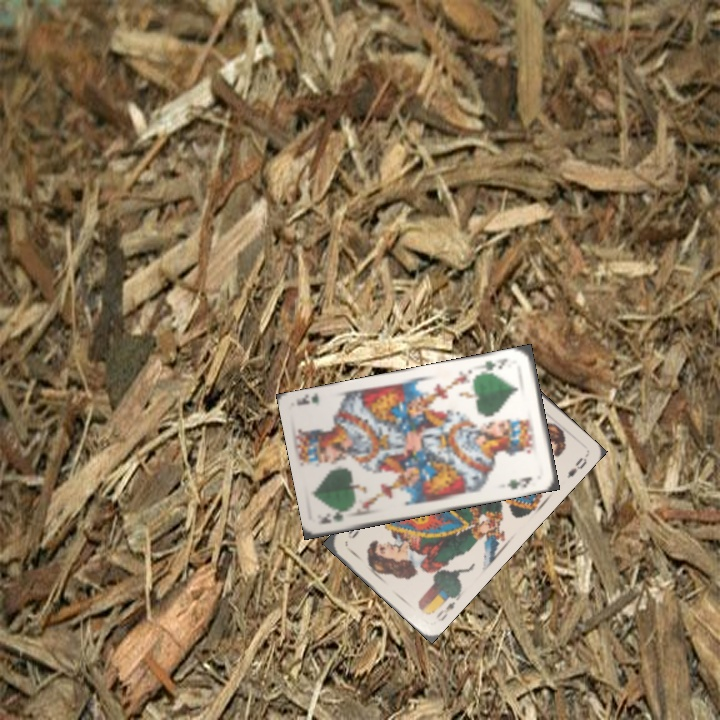EO: (429, 591, 462, 624)
GK: (316, 506, 354, 527), (477, 354, 510, 376)
